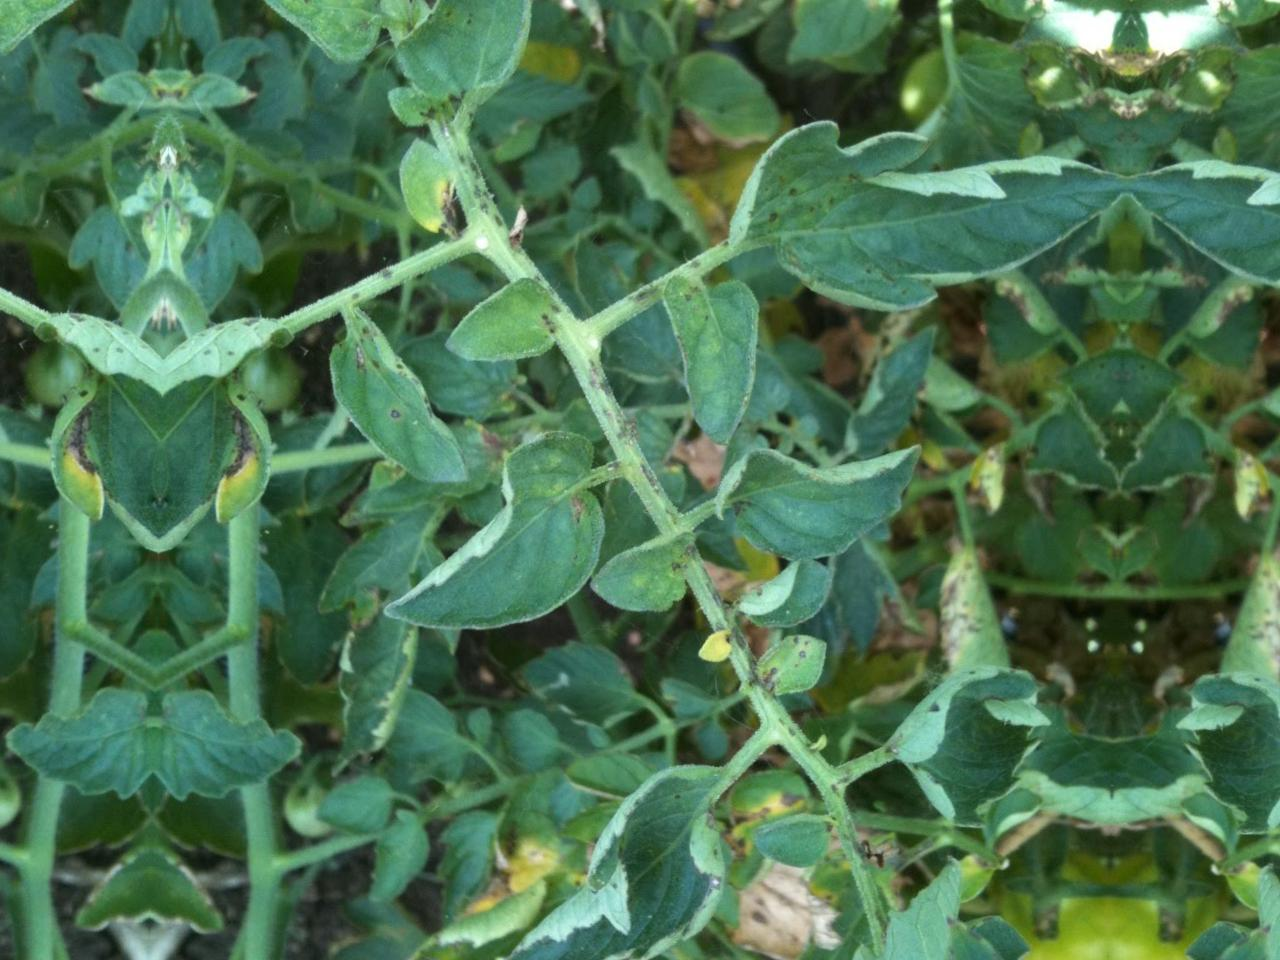Tomato leaf bacterial spot: (731, 87, 1113, 326), (471, 710, 788, 960), (396, 419, 612, 651), (645, 243, 792, 478), (305, 296, 477, 495), (398, 0, 547, 168), (220, 0, 424, 75), (745, 622, 847, 725)
